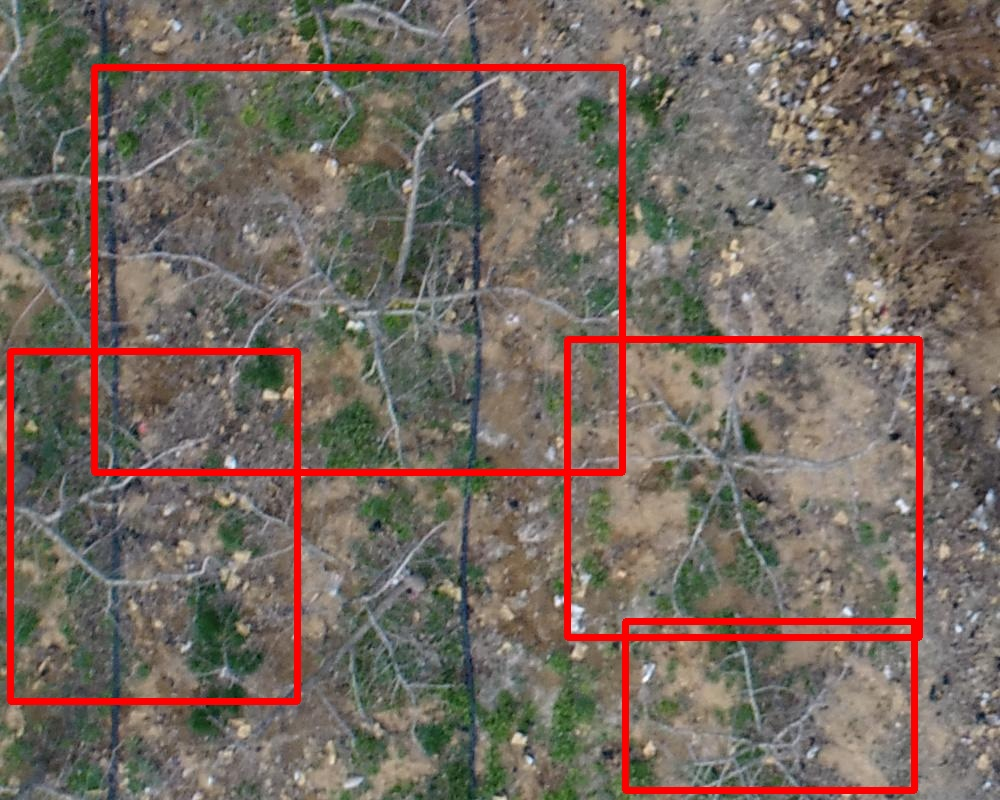apple: (94, 67, 622, 472), (567, 339, 919, 637), (10, 351, 297, 701), (625, 621, 914, 790)
